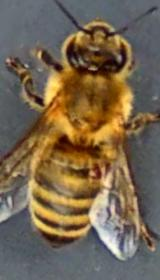varroa_mite: (77, 153, 116, 185)
